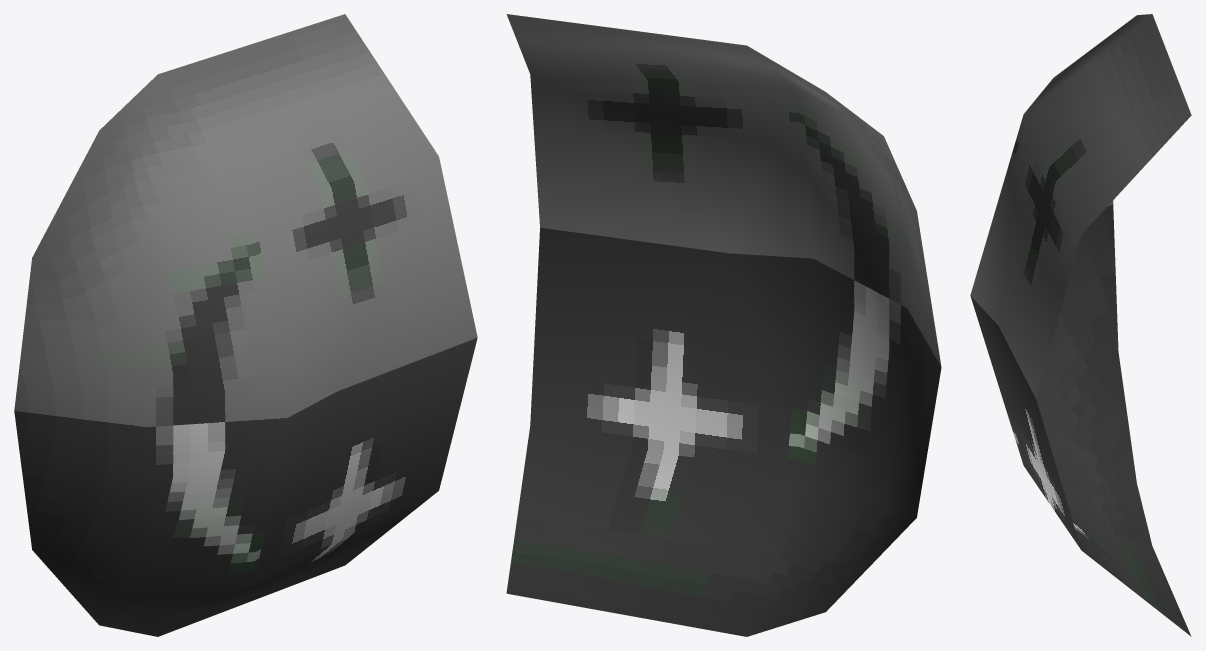
File: acc_mask_jesters.dae
3 views of the same model, side by side, from view 1: azimuth 30°, elevation 25°; view 2: azimuth 150°, elevation 25°; view 3: azimuth 270°, elevation 25° (orthographic). The views are drawn at different scales.
Visible parts, largest first — view 1: acc_mask_jesters; view 2: acc_mask_jesters; view 3: acc_mask_jesters.
Part boxes in pixels (box(x1,y1,x2,y2)): acc_mask_jesters: box(14, 14, 477, 636); acc_mask_jesters: box(506, 14, 941, 636); acc_mask_jesters: box(970, 14, 1191, 636).
Size of the model in its own units: 14 by 17.8 by 6.71.
1 material, 1 textured.
